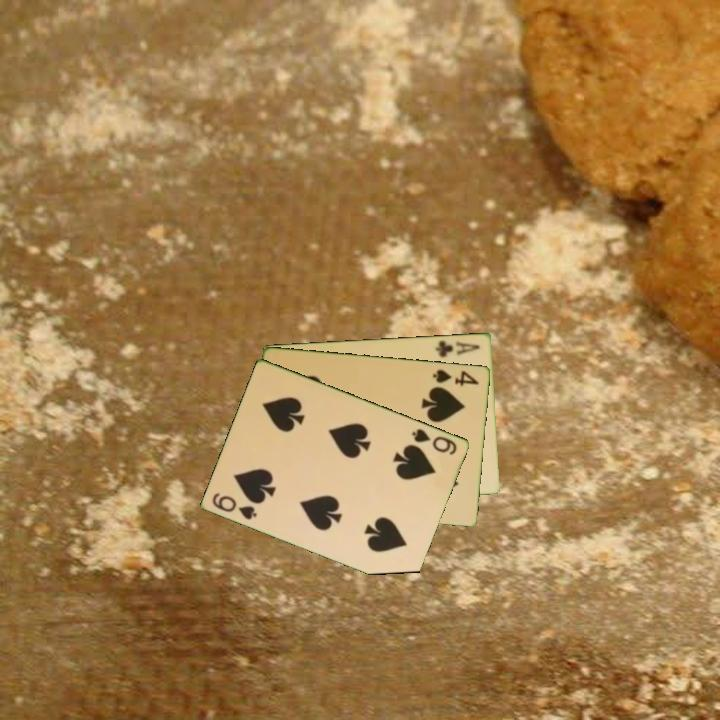4s: (430, 365, 482, 388)
6s: (408, 425, 460, 458), (209, 489, 260, 522)
Ac: (432, 337, 483, 360)
